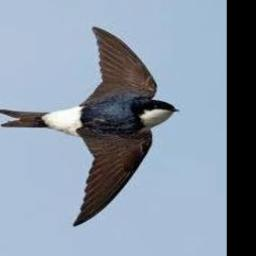Swallow: (0, 25, 180, 225)
